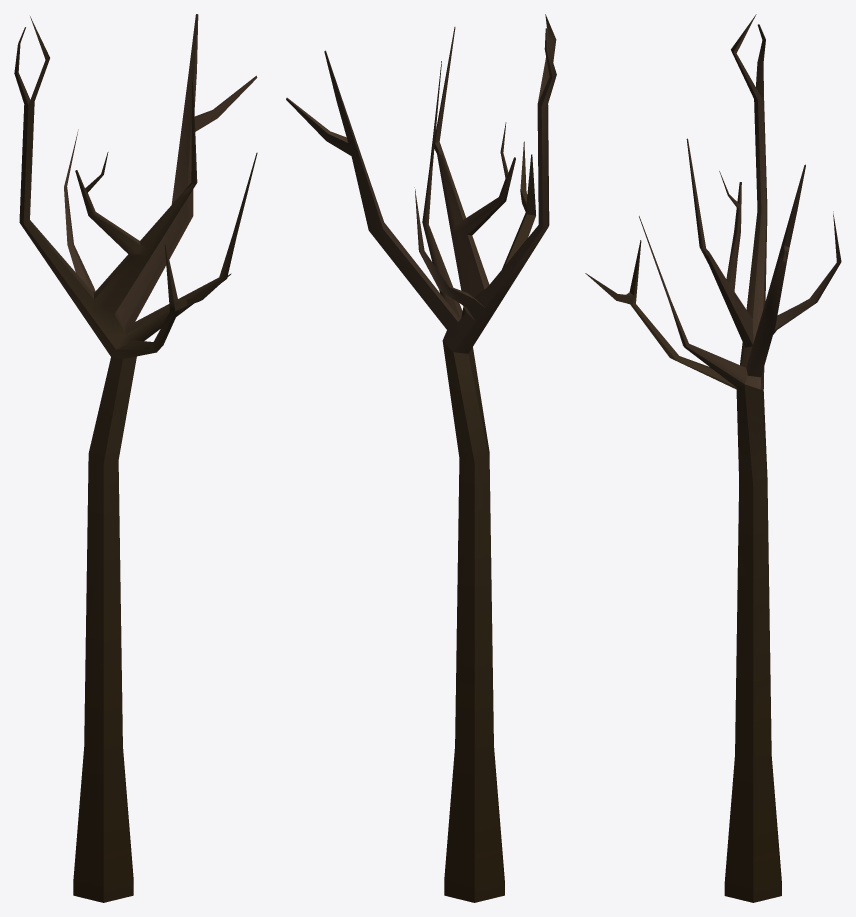
File: nuevoarbol2contextura.fbx
3 renders of one model, left to right at view 1: azimuth 30°, elevation 25°; view 2: azimuth 150°, elevation 25°; view 3: azimuth 270°, elevation 25°, orthographic. The views are drawn at different scales.
Parts seen in each view (by area): view 1: pCylinder1; view 2: pCylinder1; view 3: pCylinder1.
Part boxes in pixels (x1,y1,x2,y2): pCylinder1: [14, 14, 257, 902]; pCylinder1: [286, 14, 556, 902]; pCylinder1: [585, 14, 841, 902].
Bounding box in the file's own units: 1.88 × 6.25 × 1.72.
Materials: 1 (1 with a texture image).
